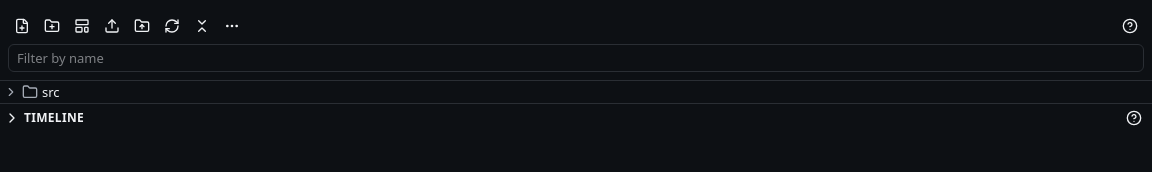
Test: a folder is read when it is opened — S-159 › says a level that could not be read, and reads it again on Enter
Click the list item "src" at [32, 92], box left=4, top=83, right=60, bottom=101
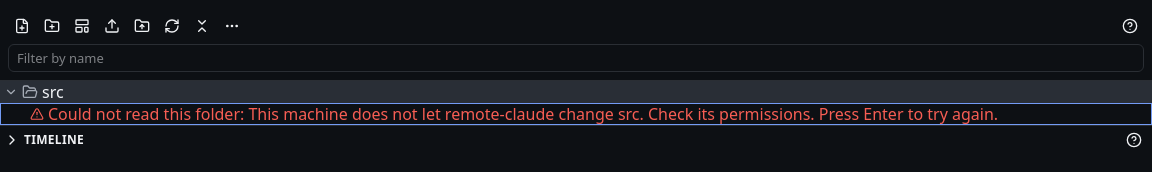
Press Enter
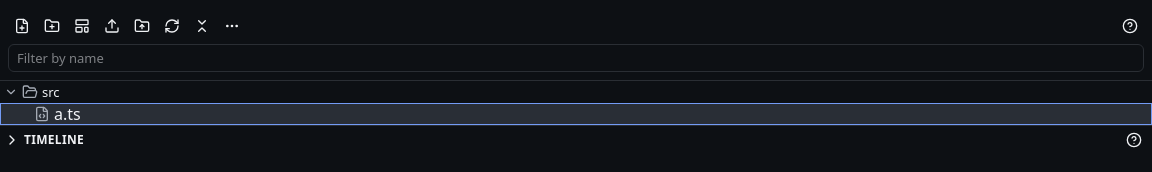
Check: the list item "a.ts" is shown, box left=0, top=103, right=1151, bottom=125
